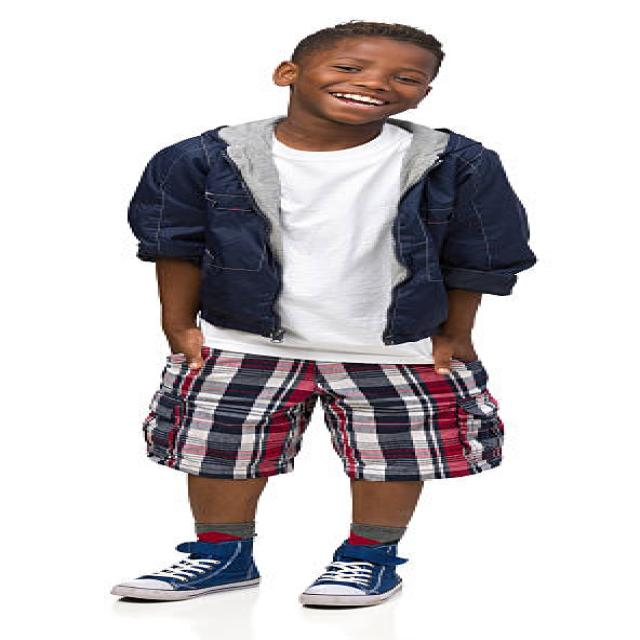Edited images: (99, 11, 555, 628)
